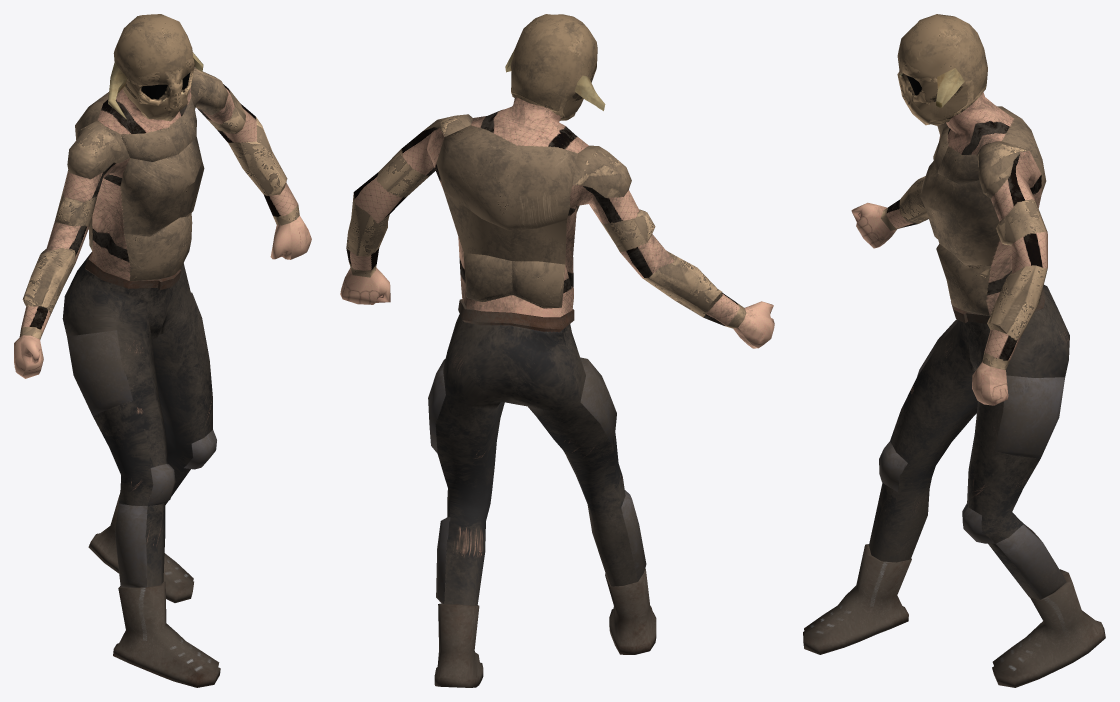
File: Anim_interruptor_npc1.0022.obj
3 views of the same model, side by side, from view 1: azimuth 30°, elevation 25°; view 2: azimuth 150°, elevation 25°; view 3: azimuth 270°, elevation 25° (orthographic). The views are drawn at different scales.
Parts seen in each view (by area): view 1: NPC2; view 2: NPC2; view 3: NPC2.
Boxes of the visible parts, x1,y1,x2,y2 form: NPC2: (14,14,311,687); NPC2: (340,14,774,687); NPC2: (803,14,1105,687).
Size of the model in its own units: 5.51 by 9.26 by 4.
